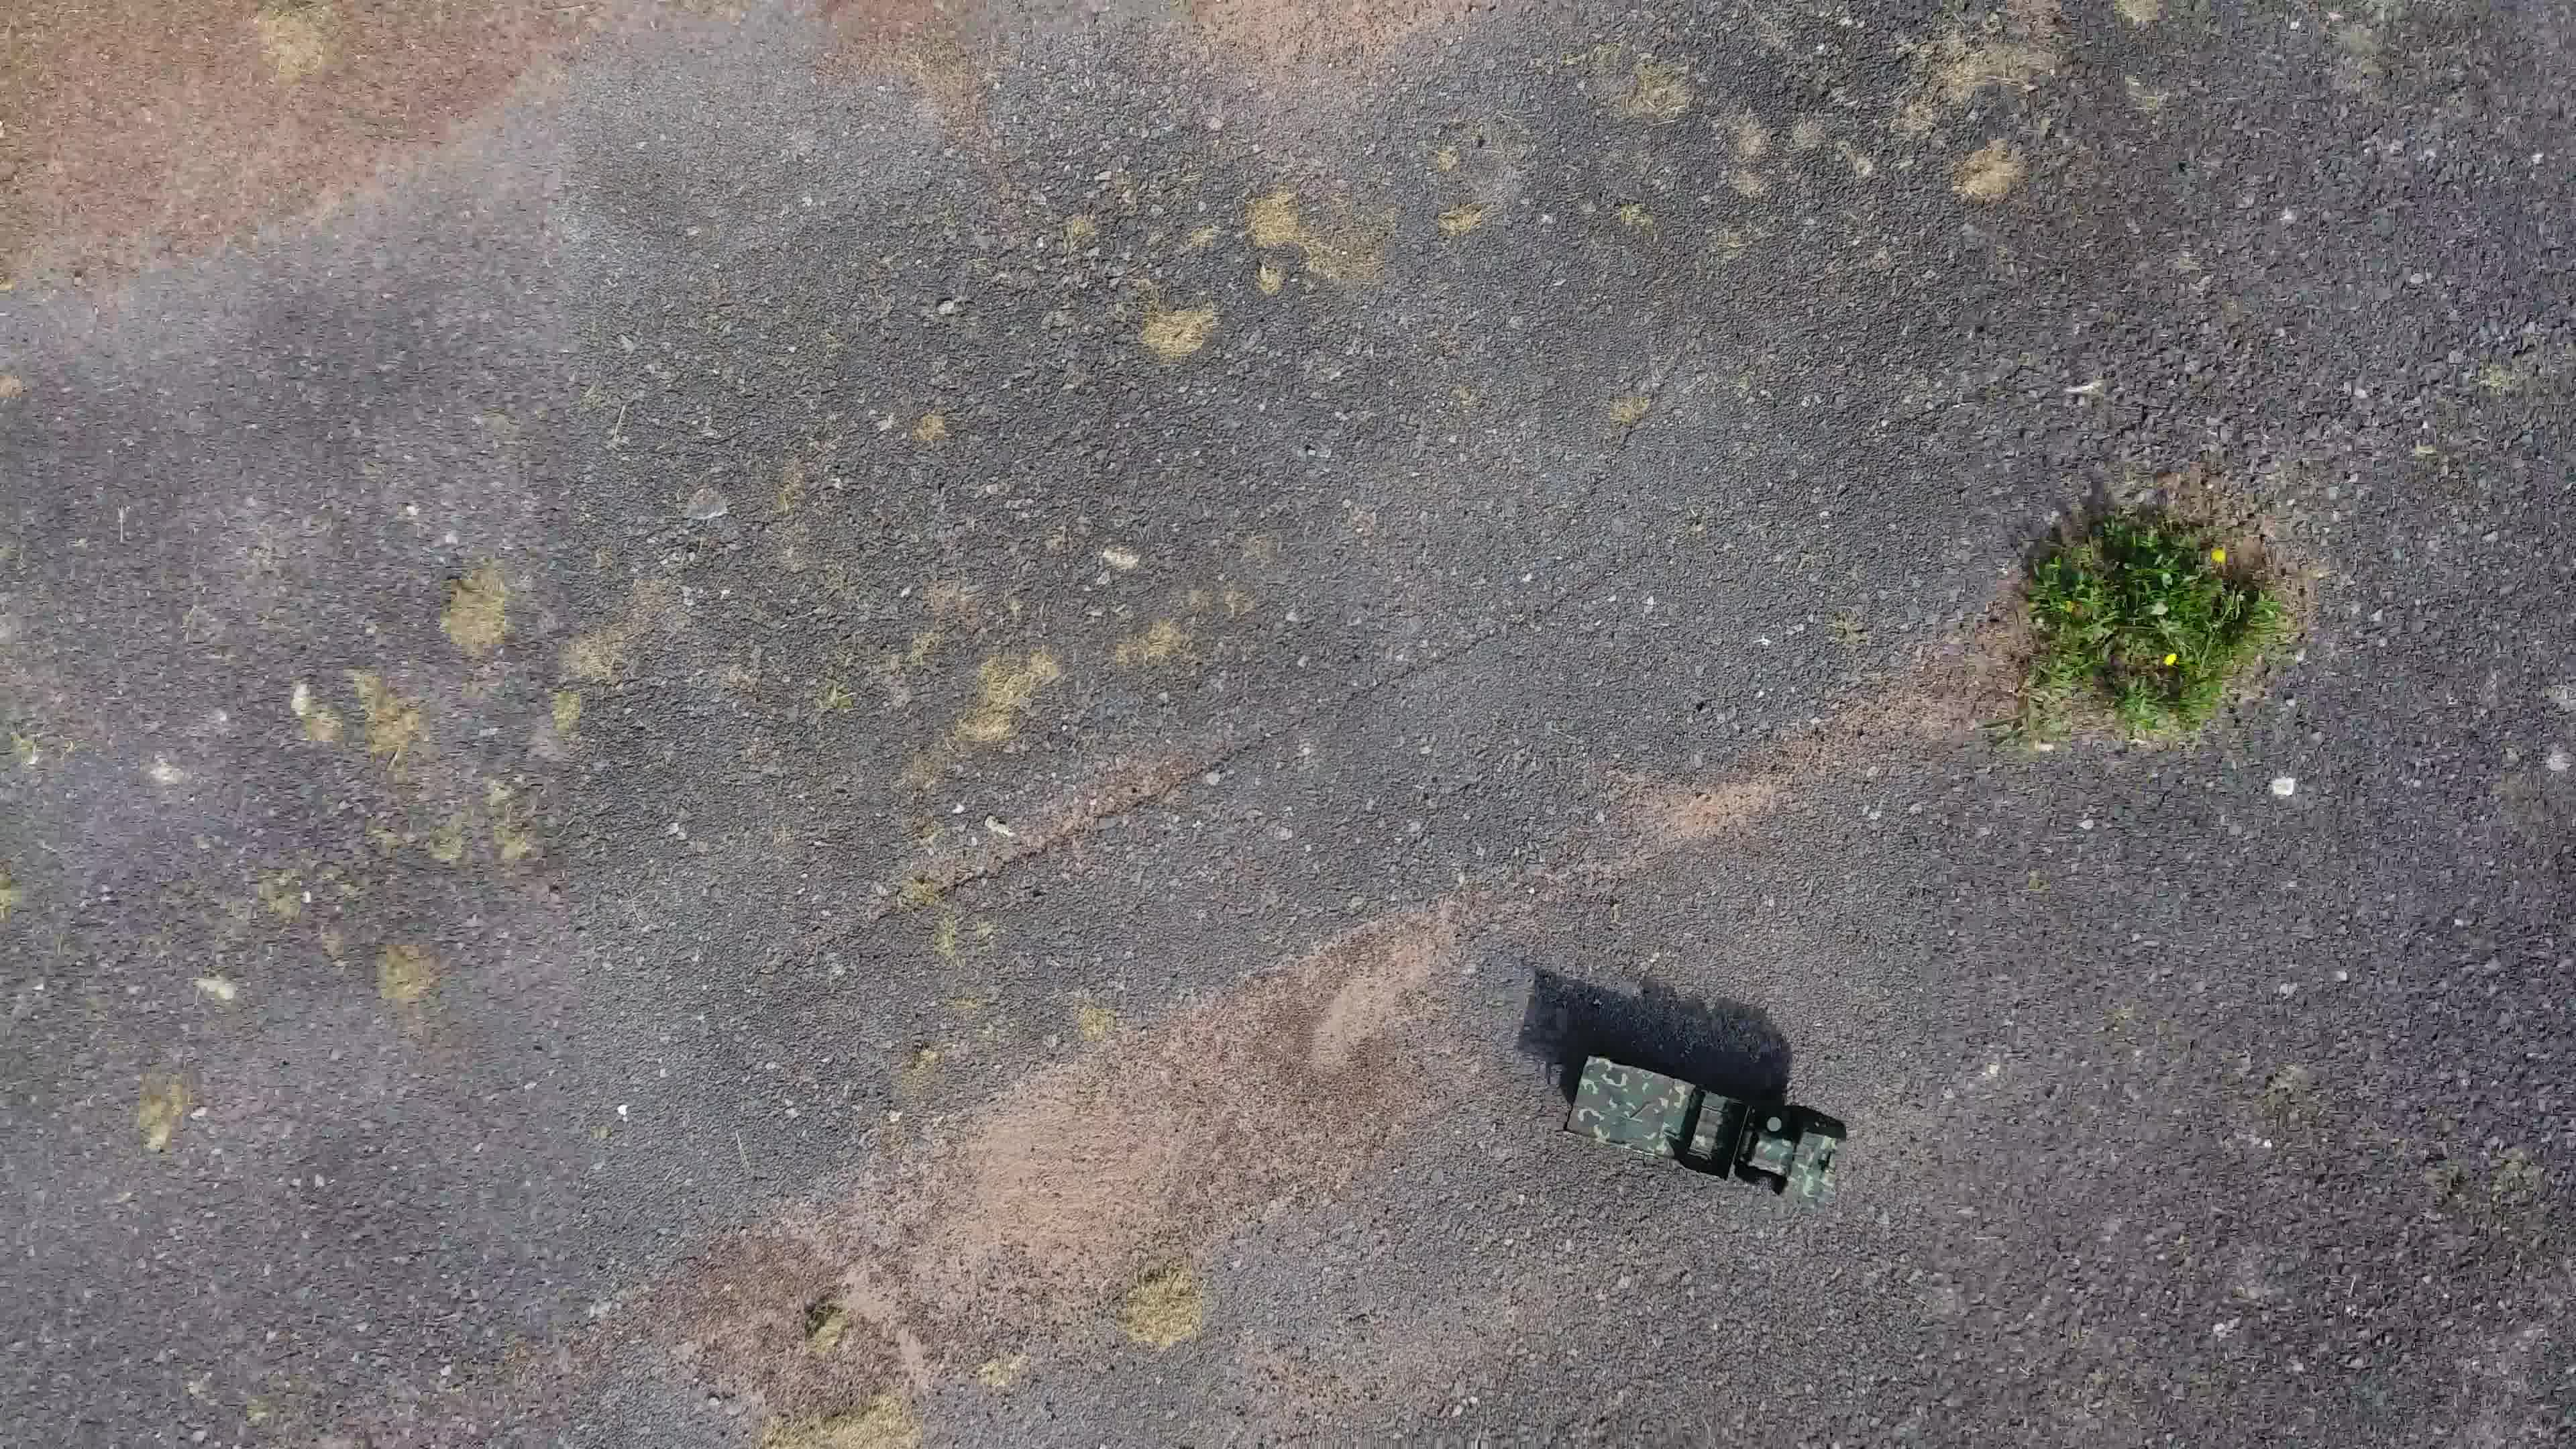transporter9_camo: (1555, 1047, 1849, 1208)
